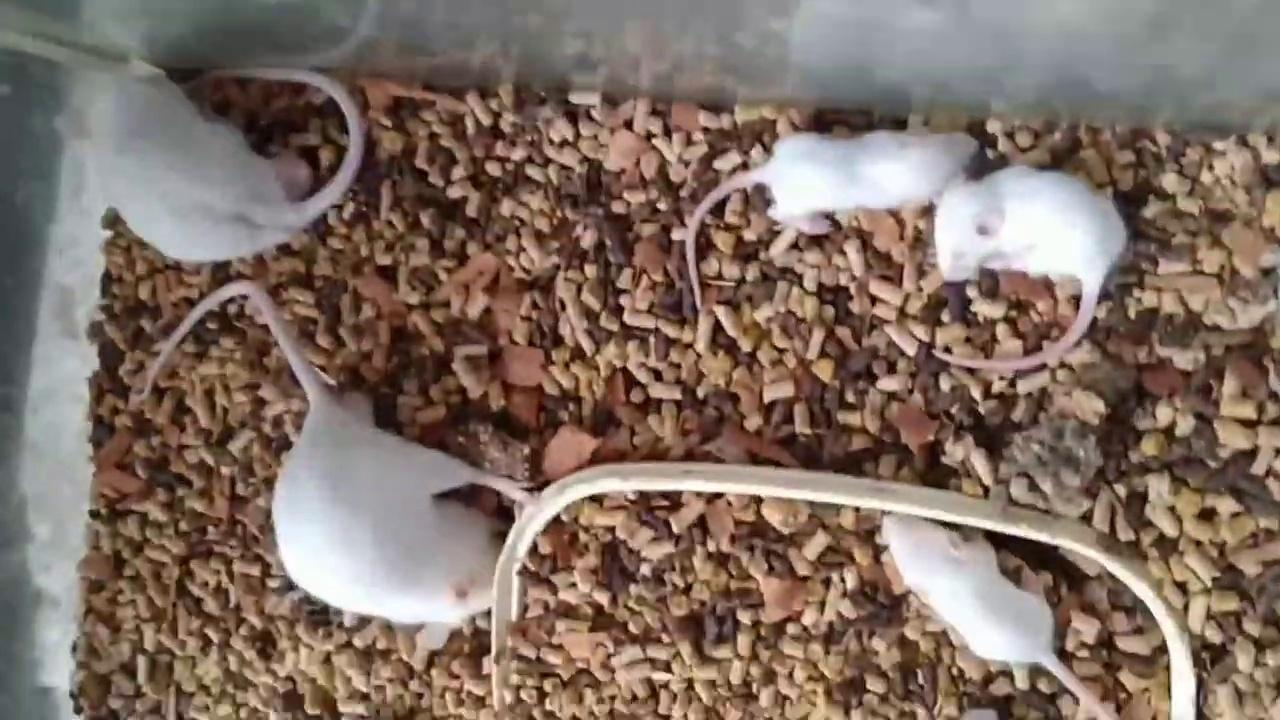rat: (142, 280, 543, 621), (55, 53, 366, 262), (688, 131, 977, 308), (883, 516, 1113, 720), (933, 166, 1128, 369)
